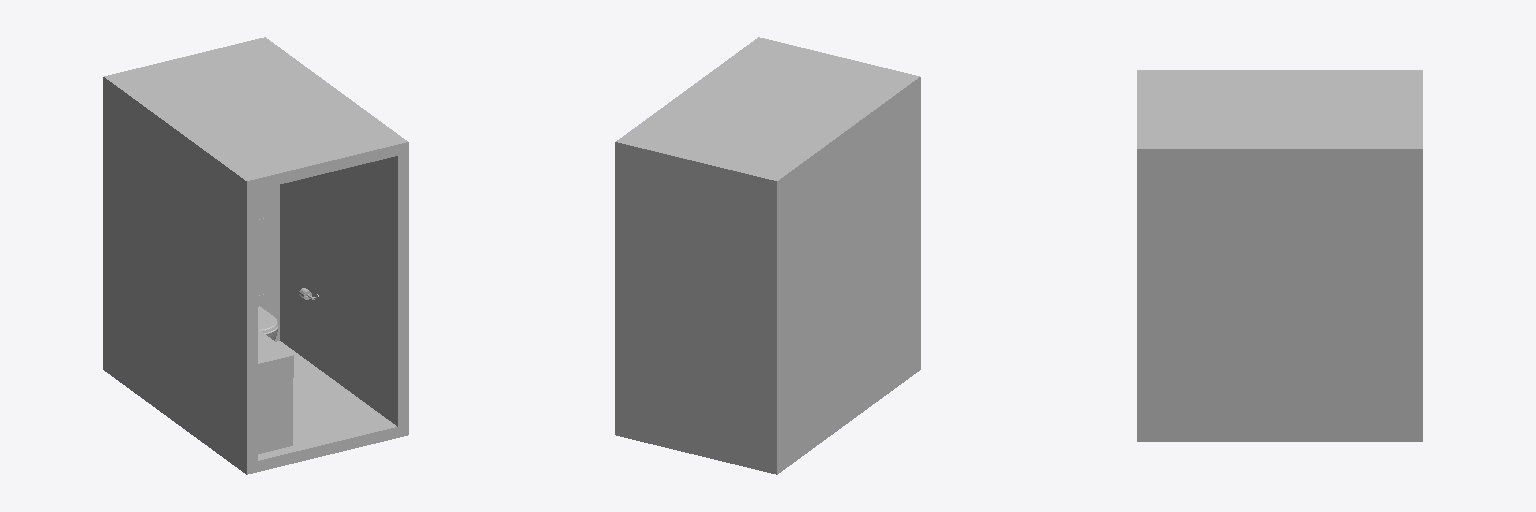
File: 14.08.2024_Blank Superloo_Material Update_R0.obj
3 views of the same model, side by side, from view 1: azimuth 30°, elevation 25°; view 2: azimuth 150°, elevation 25°; view 3: azimuth 270°, elevation 25° (orthographic).
Parts seen in each view (by area): view 1: Mesh55 Group55 Model, Mesh8 Group13 Group12 Model, Mesh7 Group1 Model, Mesh14 Group21 Model, Mesh37 Group33 Group31 Model, Mesh56 NBS_ConceptCubicleSystems_PrplmbdInstlltnFrms_LaminateDuc, Mesh15 Group22 Model, Mesh35 Group30 Model, Mesh52 Group52 Group50 Model; view 2: Mesh15 Group22 Model, Mesh55 Group55 Model, Mesh7 Group1 Model, Mesh14 Group21 Model; view 3: Mesh8 Group13 Group12 Model, Mesh7 Group1 Model, Mesh15 Group22 Model, Mesh14 Group21 Model.
Part boxes in pixels (bbox=[...]): Mesh55 Group55 Model: bbox=[110, 93, 257, 462]; Mesh8 Group13 Group12 Model: bbox=[280, 153, 408, 426]; Mesh7 Group1 Model: bbox=[103, 37, 408, 192]; Mesh14 Group21 Model: bbox=[103, 341, 408, 474]; Mesh37 Group33 Group31 Model: bbox=[258, 378, 292, 453]; Mesh56 NBS_ConceptCubicleSystems_PrplmbdInstlltnFrms_LaminateDuc: bbox=[265, 185, 279, 341]; Mesh15 Group22 Model: bbox=[103, 88, 109, 362]; Mesh35 Group30 Model: bbox=[258, 329, 293, 386]; Mesh52 Group52 Group50 Model: bbox=[258, 218, 264, 295]; Mesh15 Group22 Model: bbox=[615, 153, 783, 462]; Mesh55 Group55 Model: bbox=[784, 88, 920, 457]; Mesh7 Group1 Model: bbox=[615, 37, 920, 192]; Mesh14 Group21 Model: bbox=[615, 359, 920, 474]; Mesh8 Group13 Group12 Model: bbox=[1137, 160, 1410, 430]; Mesh7 Group1 Model: bbox=[1137, 70, 1422, 159]; Mesh15 Group22 Model: bbox=[1411, 160, 1422, 430]; Mesh14 Group21 Model: bbox=[1137, 431, 1422, 441].
Size of the model in its own units: 1500 by 2600 by 2300.